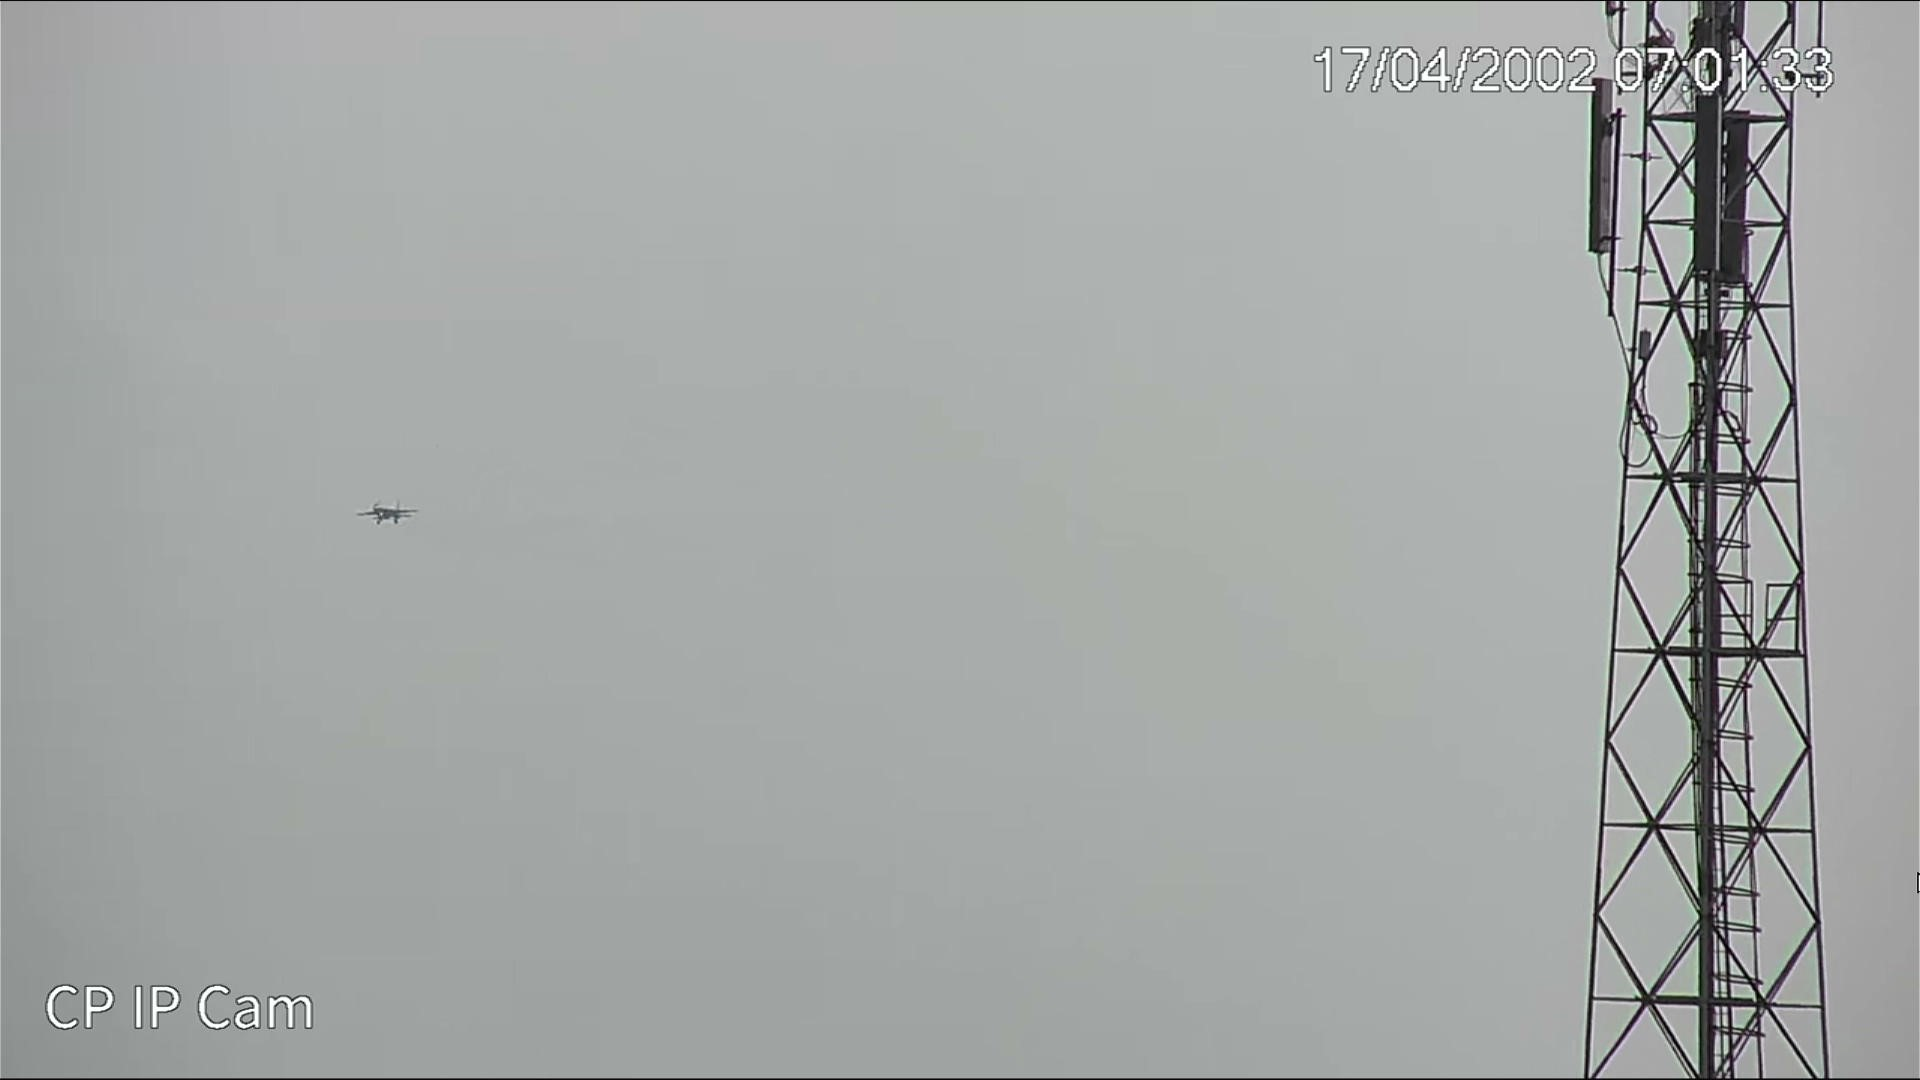SU_30: (353, 498, 419, 526)
